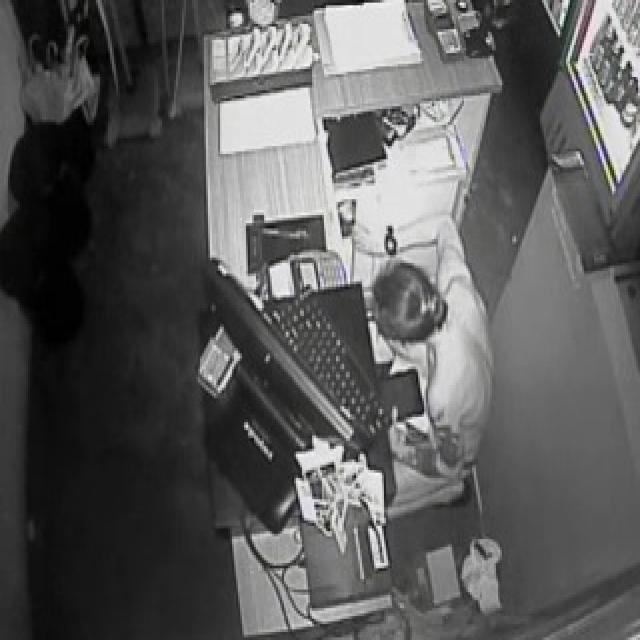thief: (365, 228, 477, 469)
